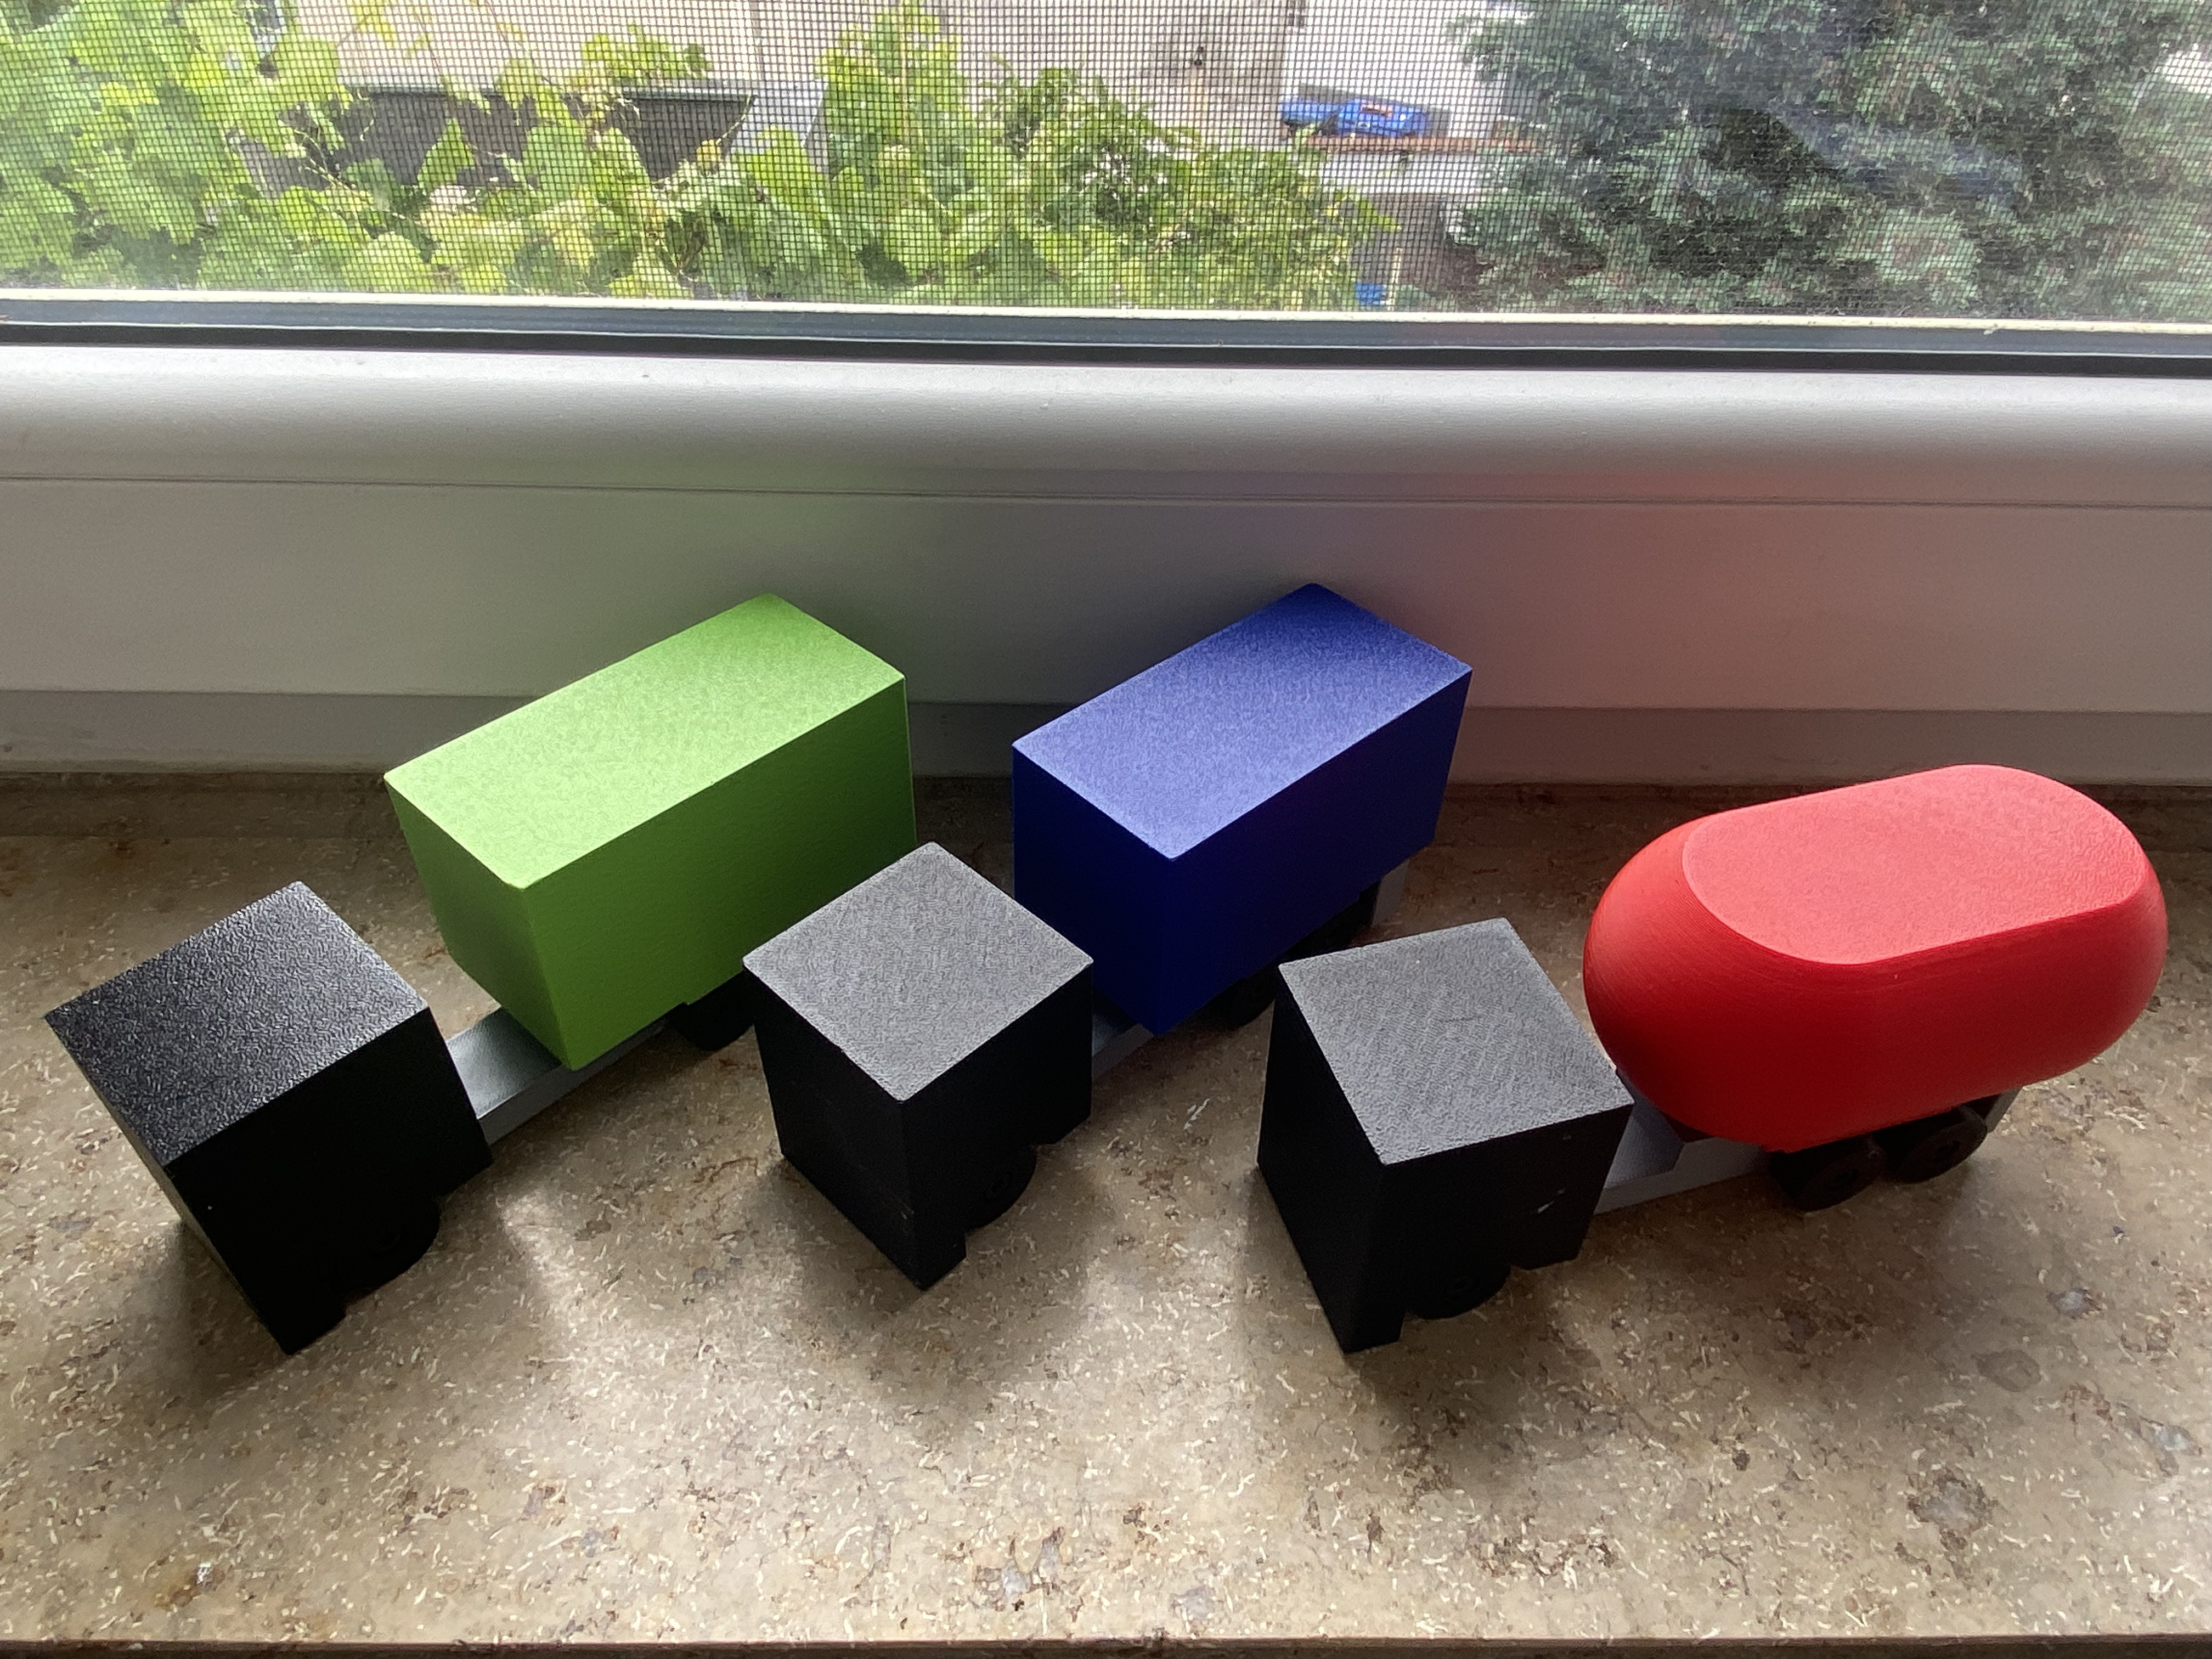blue_truck: (693, 695, 1583, 1098)
green_truck: (42, 683, 991, 1173)
red_truck: (1240, 810, 2182, 1225)
